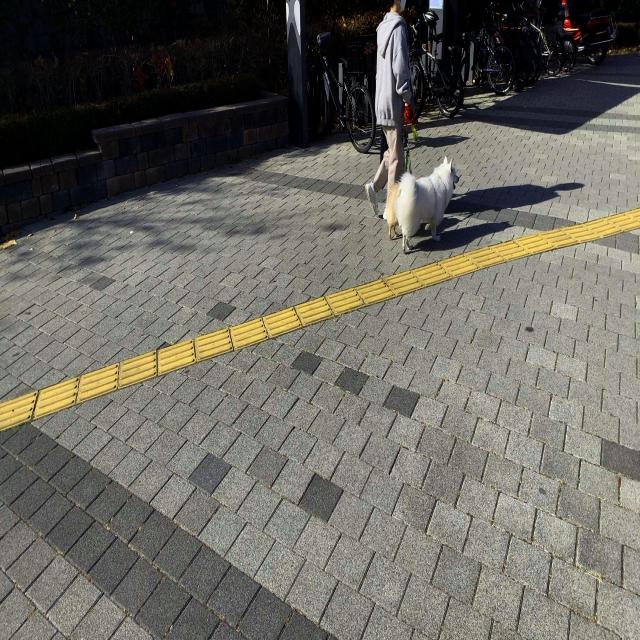Leashed_Dog: (386, 102, 460, 258)
